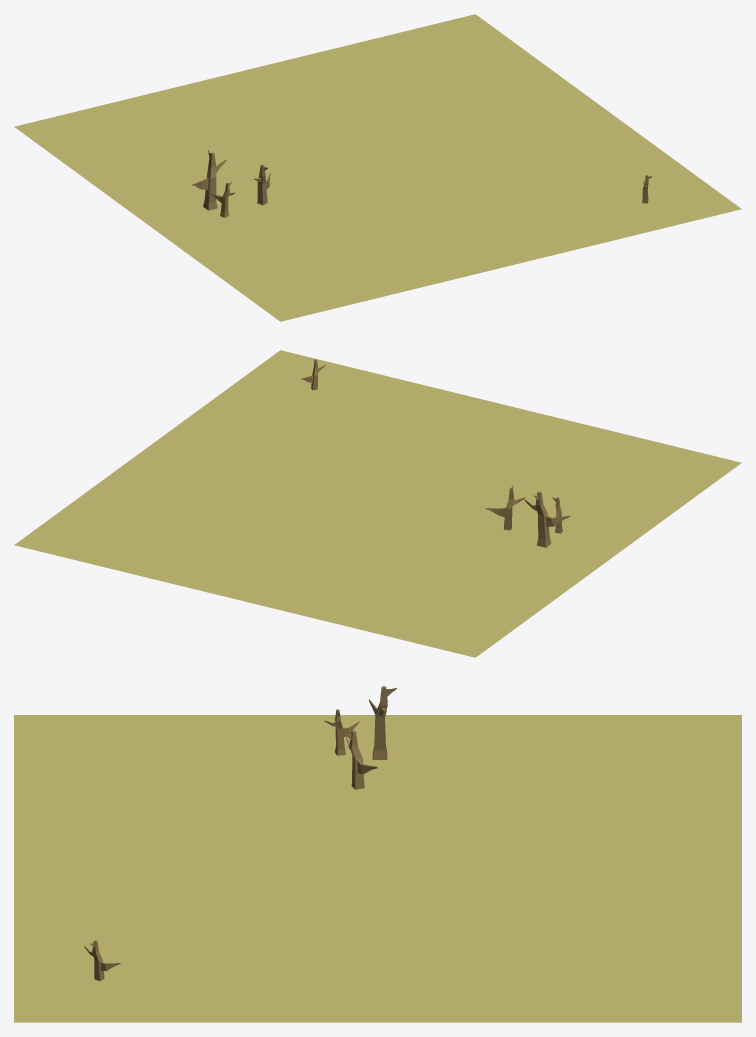
The model's file is Desert I.fbx.
The picture shows the model from 3 angles, top to bottom: view 1: azimuth 30°, elevation 25°; view 2: azimuth 150°, elevation 25°; view 3: azimuth 270°, elevation 25°; orthographic projection. The views are drawn at different scales.
Visible parts, largest first — view 1: Desert I; view 2: Desert I; view 3: Desert I.
Boxes of the visible parts, left/top/right/bottom form: Desert I: left=14, top=14, right=741, bottom=321; Desert I: left=14, top=350, right=741, bottom=657; Desert I: left=14, top=686, right=741, bottom=1022.
Size of the model in its own units: 1595 by 192 by 1595.
